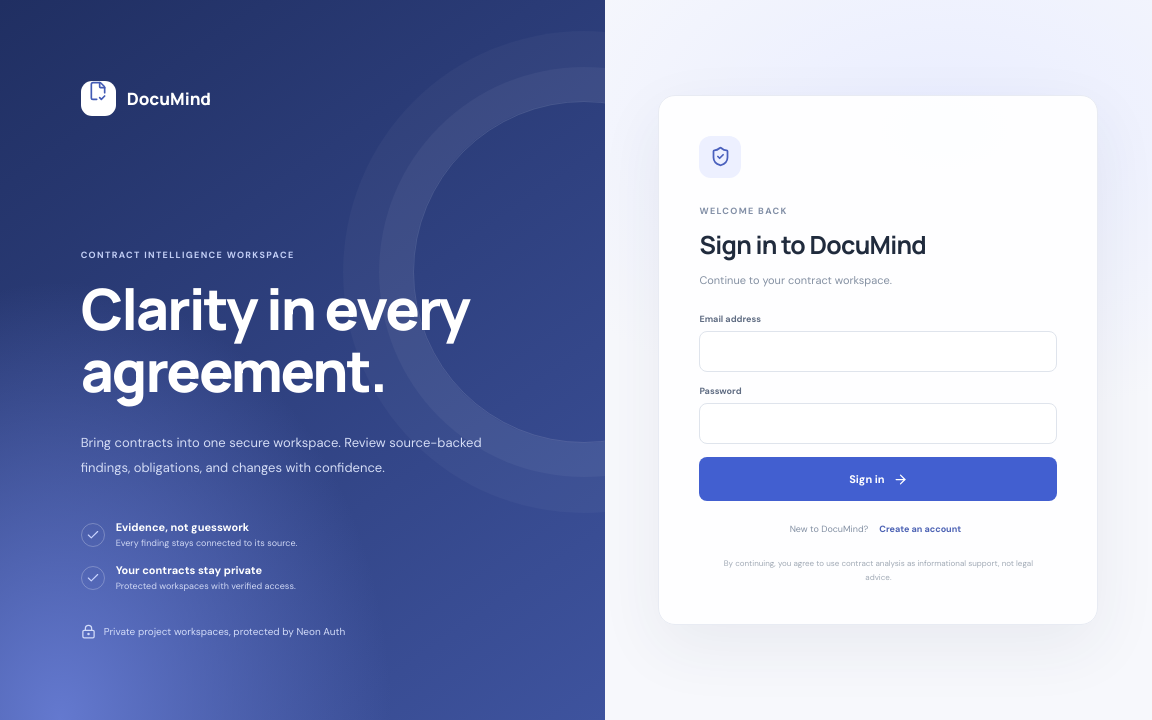
Scenario: AuthScreen › sends a code when Neon Auth rejects sign-in for an unverified email
In the field labelled "Email address": (878, 352) [699,331,1057,372], type "person@example.test"
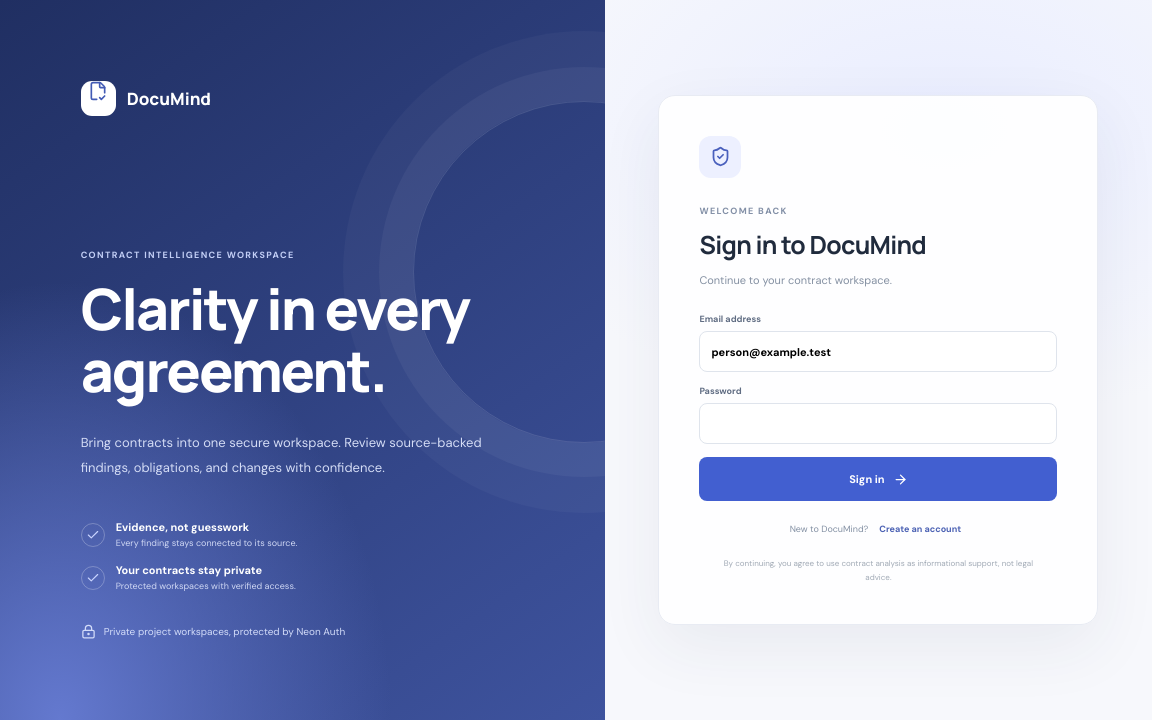
In the password field labelled "Password": (878, 424) [699,403,1057,444], type "valid-password"
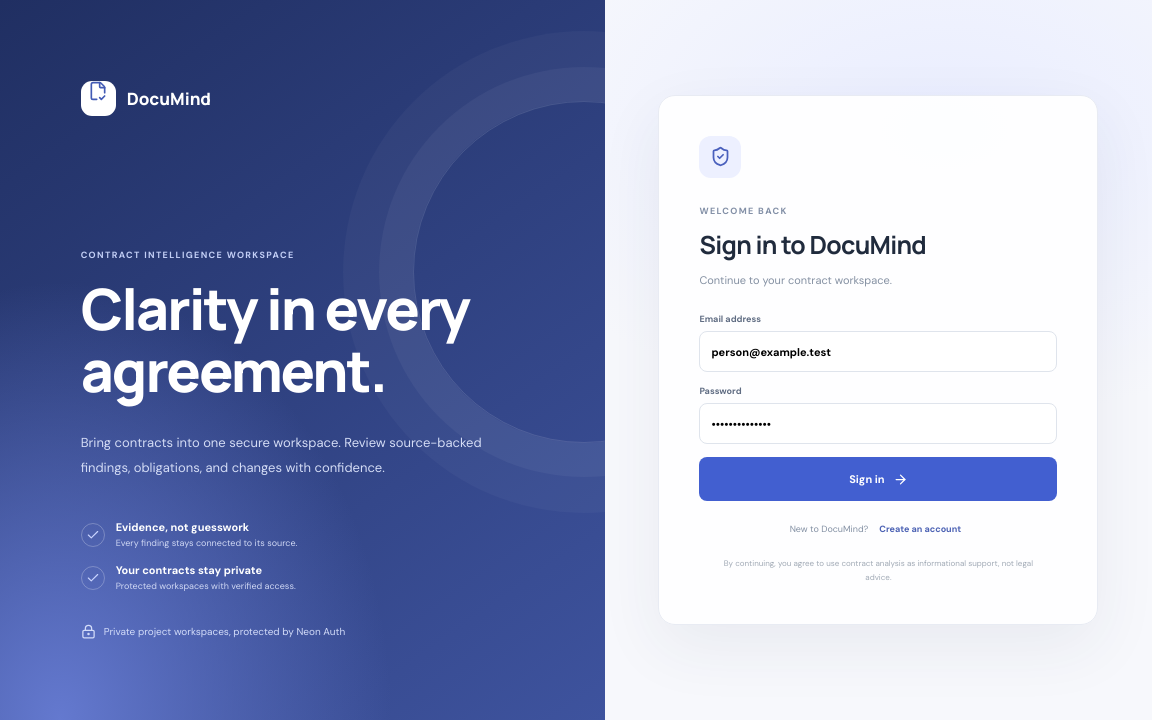
Click the button "Sign in": (878, 479) [699,457,1057,501]
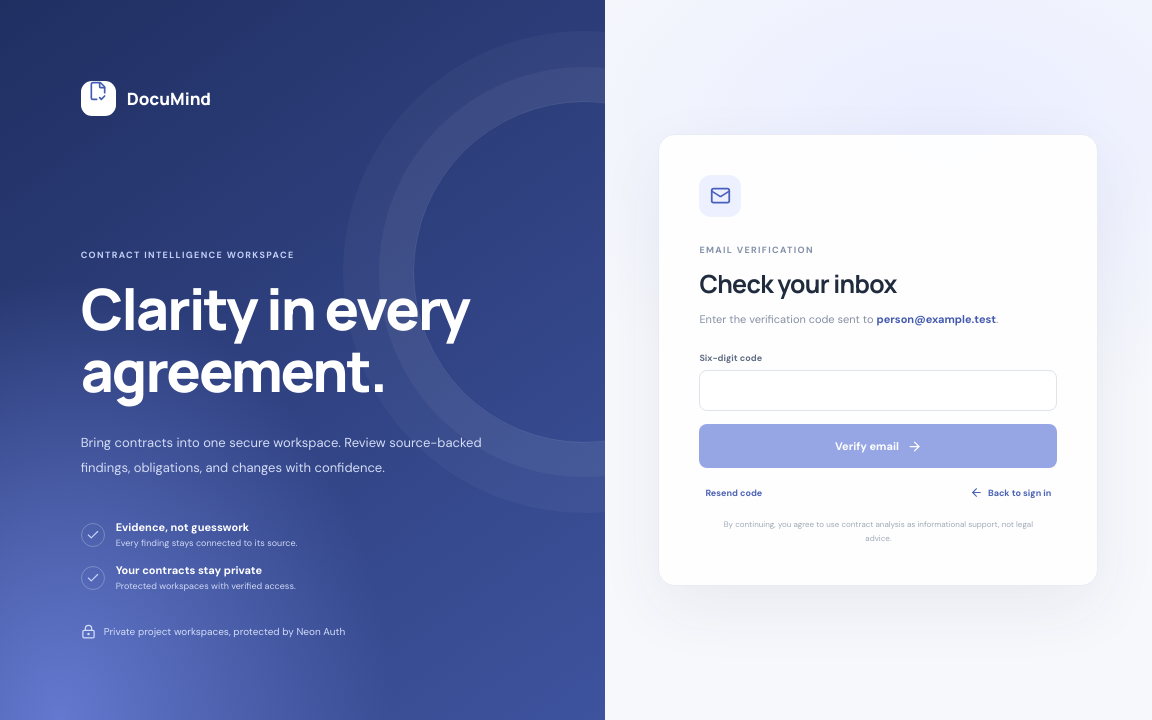
Expected: the heading "Check your inbox" is shown, [699,266,897,301]
